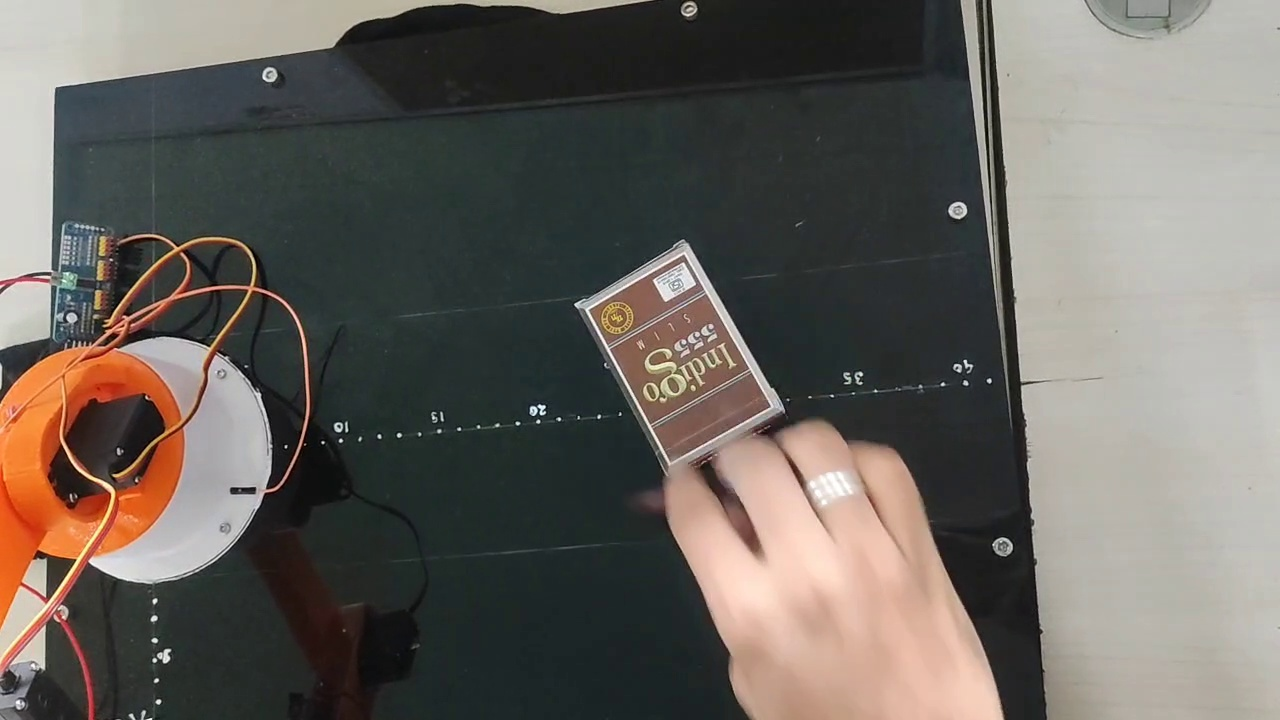BEX: (582, 249, 779, 464)
